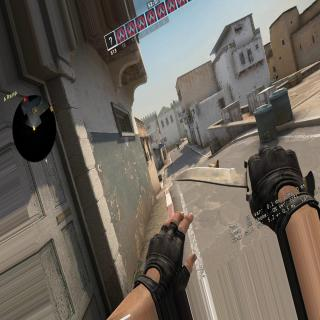CT-Body: (273, 74, 279, 80), (176, 142, 180, 150)
CT-Head: (274, 74, 276, 76), (177, 142, 177, 144)
